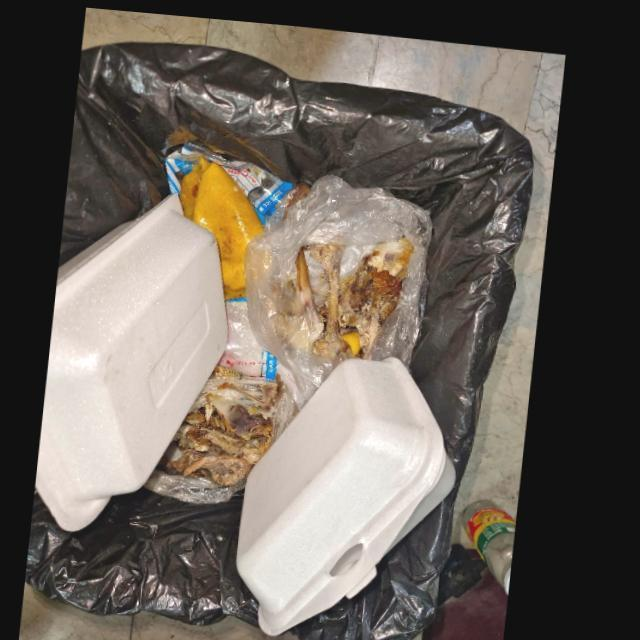glass_bottle: (470, 490, 525, 585)
left_over_food: (300, 228, 419, 353), (165, 368, 290, 480)
plastic_bag: (247, 167, 436, 390)
